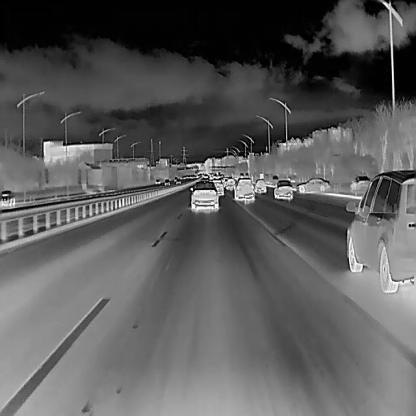car: (344, 168, 415, 293), (189, 180, 219, 213), (295, 177, 330, 194), (233, 176, 255, 203), (348, 173, 373, 190), (273, 179, 293, 200), (0, 188, 14, 207), (209, 179, 224, 196), (252, 177, 267, 193), (224, 178, 235, 191), (163, 178, 171, 185), (154, 178, 160, 184), (175, 178, 181, 184), (173, 176, 177, 181)
